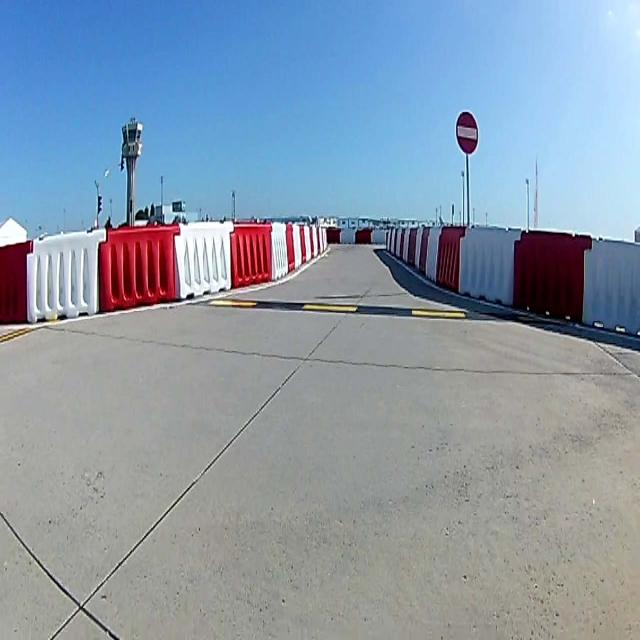girisyok: (454, 107, 480, 158)
